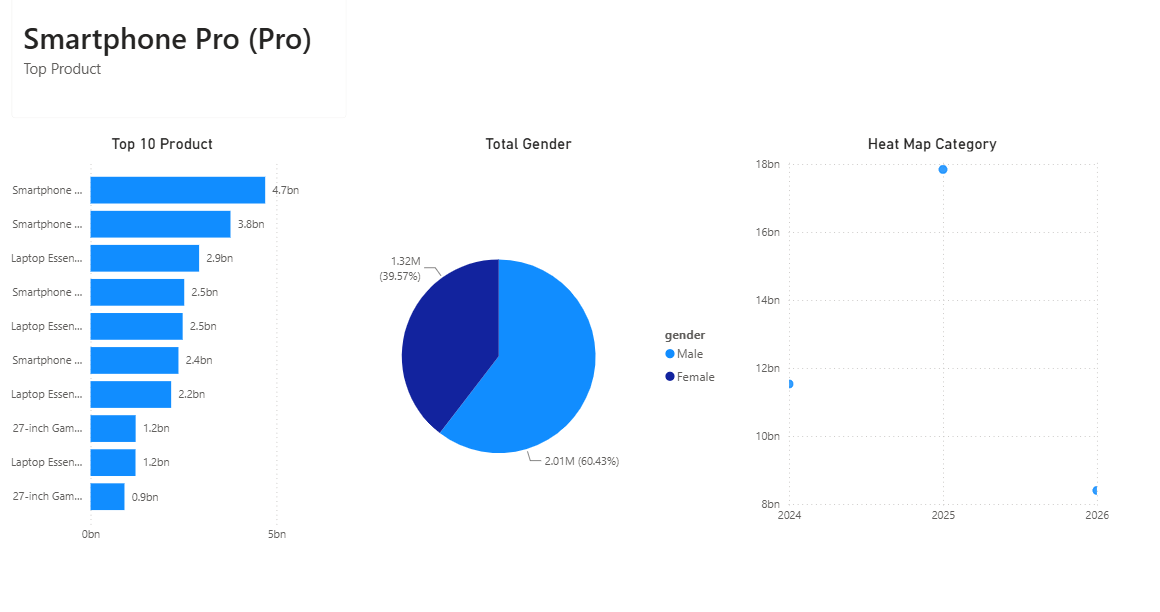

This screenshot's page, from the dashboard's own definition file:
{"tool":"powerbi","page":{"name":"Gender/Category2","canvas":[1280,720],"ordinal":1},"visuals":[{"type":"cardVisual","fields":{"Data":["analytics vw_sales.Top Product"]},"box":[0,0,402.1,192.1],"z":0},{"type":"pieChart","title":"Total Gender","fields":{"Y":["CountNonNull(analytics vw_sales.gender)"],"Category":["analytics vw_sales.gender"]},"box":[365,192.1,439.1,469.3],"z":1000},{"type":"clusteredBarChart","title":"Top 10 Product","fields":{"Category":["analytics vw_sales.product_name"],"Y":["Sum(analytics vw_sales.total_amount)"]},"box":[0,192.4,364.9,457.6],"z":2000},{"type":"scatterChart","title":"Heat Map Category","fields":{"Y":["Sum(analytics vw_monthly_revenue.revenue)"],"X":["analytics vw_monthly_revenue.year"]},"box":[828.8,192.1,397.9,436.4],"z":4000}]}

Visuals, with their boxes on the page's 1280x720 design canvas (x1, y1, x2, y2). These are canvas units, not pixel positions in the 1160x612 screenshot, which may show the page scaled, cropped or inside an application window:
cardVisual - analytics vw_sales.Top Product: select_region(0, 0, 402, 192)
"Total Gender" pieChart: select_region(365, 192, 804, 661)
"Top 10 Product" clusteredBarChart: select_region(0, 192, 365, 650)
"Heat Map Category" scatterChart: select_region(829, 192, 1227, 628)
